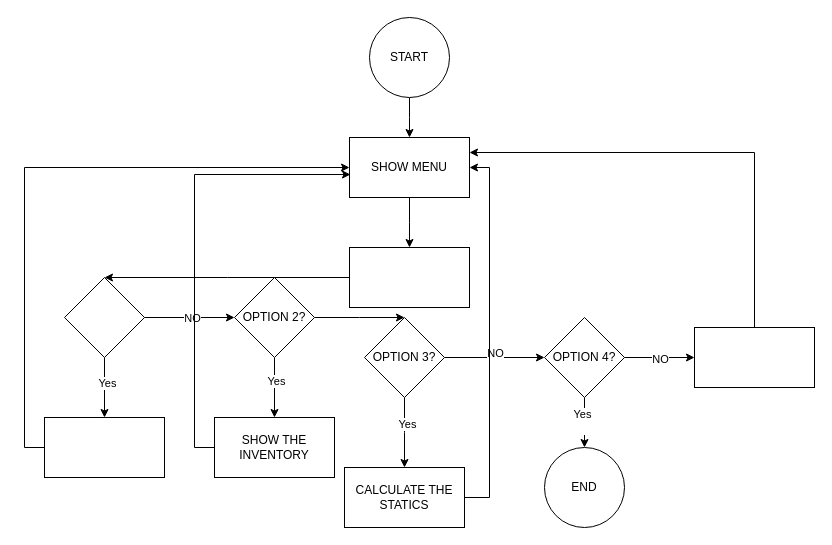
Image size: 832x545. Some labels were removed from this diagram. Here are the shapes that lost their labels. From the top down, the box of each, then its label:
(348, 246, 470, 308): ASK FOR OPTION
(64, 276, 144, 358): OPTION 1?
(694, 326, 814, 388): INVALID OPTION
(44, 416, 164, 478): ADD PRODUCT
